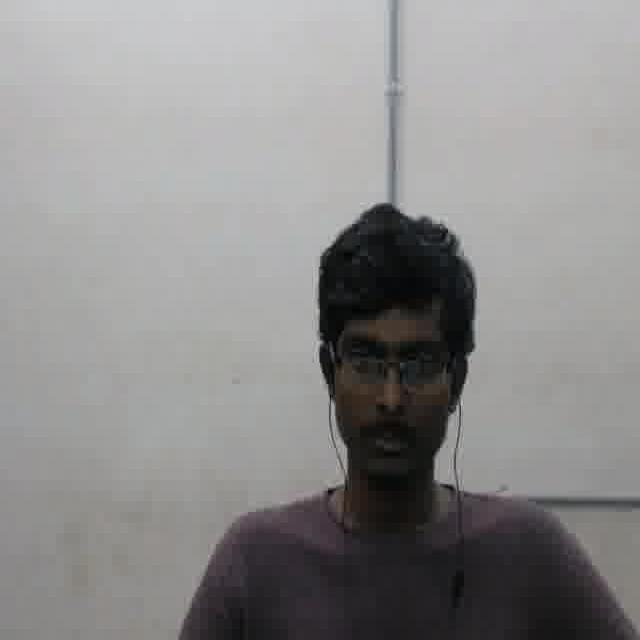Engaged: (334, 296, 446, 484)
